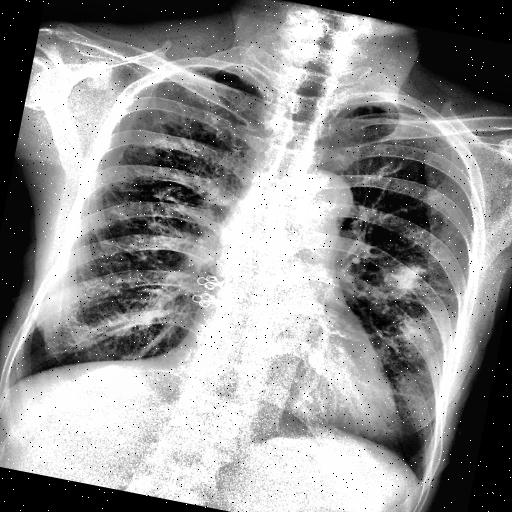0- Aortic enlargement: (278, 164, 358, 229), (286, 166, 358, 234)
10- Pleural effusion: (412, 469, 430, 490)
11- Pleural thickening: (412, 469, 430, 490)
13- Pulmonary fibrosis: (434, 289, 458, 301)
3- Cardiomegaly: (150, 326, 408, 454)
4- Consolidation: (384, 256, 424, 294)
6- Infiltration: (358, 257, 458, 367), (400, 314, 440, 352)
7- Lung Opacity: (374, 260, 434, 311), (384, 256, 424, 294), (400, 314, 440, 352), (369, 99, 399, 117)
9- Other lesion: (369, 99, 399, 117)
